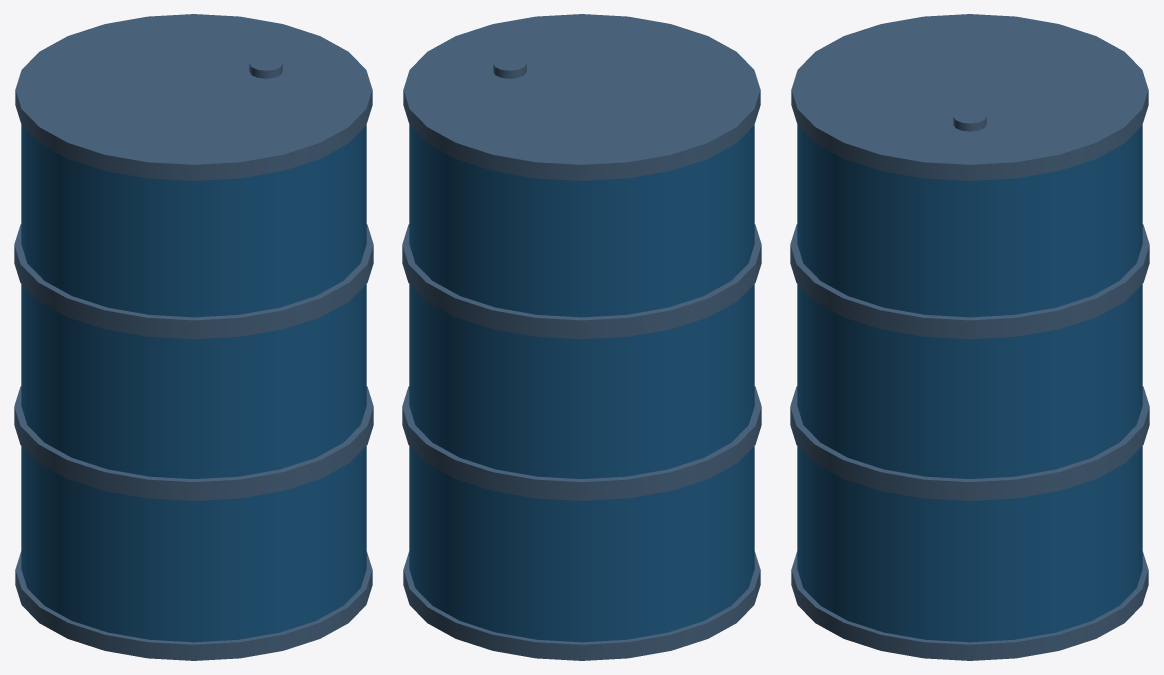
The model's file is oil_drum.glb.
The picture shows the model from 3 angles, left to right: view 1: azimuth 30°, elevation 25°; view 2: azimuth 150°, elevation 25°; view 3: azimuth 270°, elevation 25°; orthographic projection.
Visible parts, largest first — view 1: OilDrum; view 2: OilDrum; view 3: OilDrum.
Part boxes in pixels (x1,y1,x2,y2): OilDrum: [14, 14, 373, 660]; OilDrum: [402, 14, 761, 660]; OilDrum: [790, 14, 1149, 660].
Bounding box in the file's own units: 0.604 × 0.935 × 0.604.
